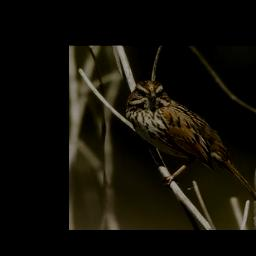Sparrow: (124, 80, 256, 208)
